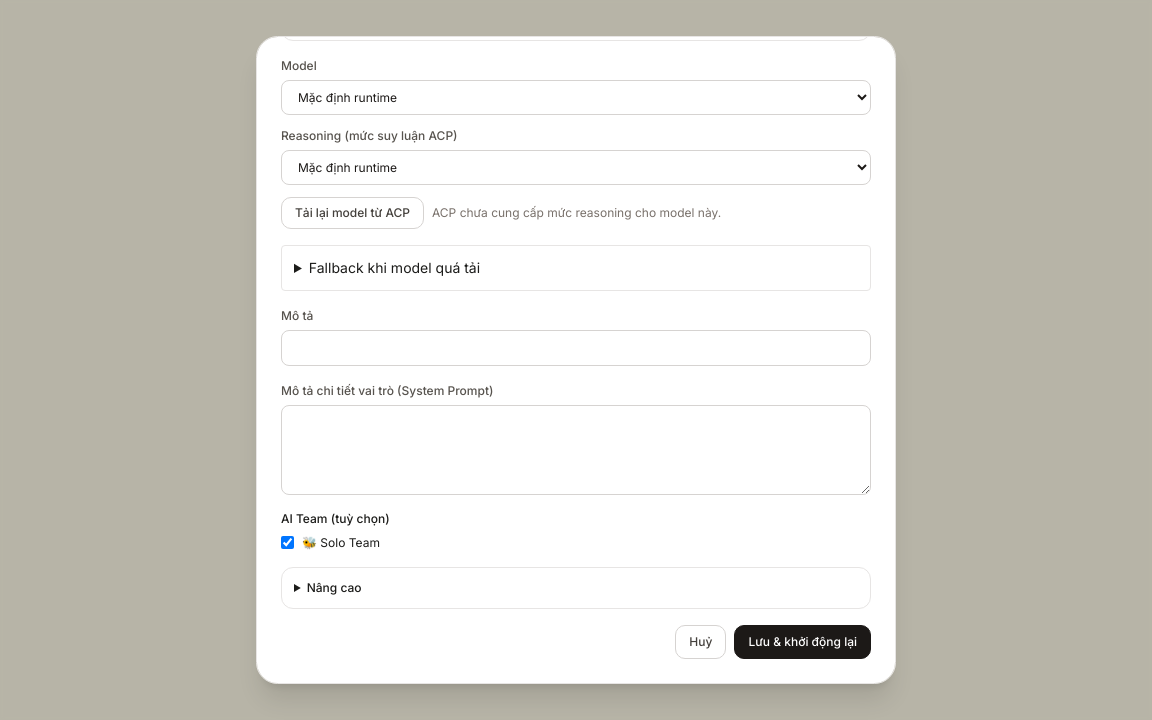
Test: removing sole agent from a team is refused before saving configuration
The image size is (1152, 720).
(page scrolled)
Click the checkbox labelled "🐝 Solo Team" at (288, 542), box [281,536,294,549]
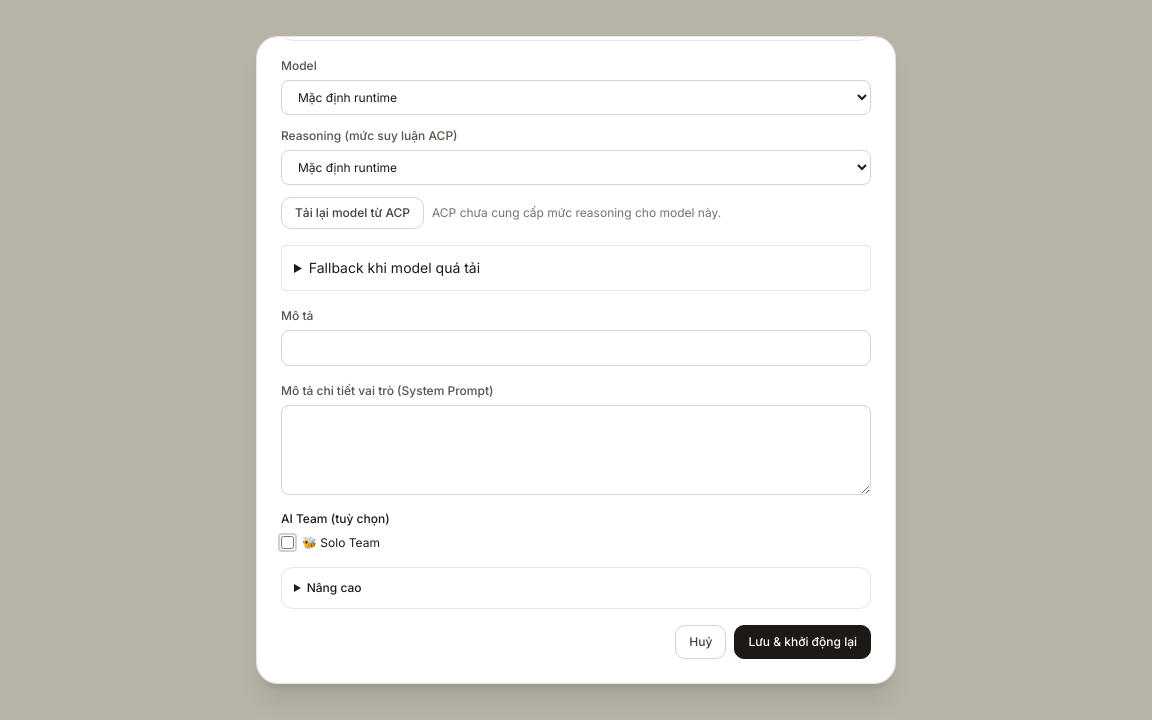
Click the button "Lưu & khởi động lại" at (803, 642), box [734,624,871,658]
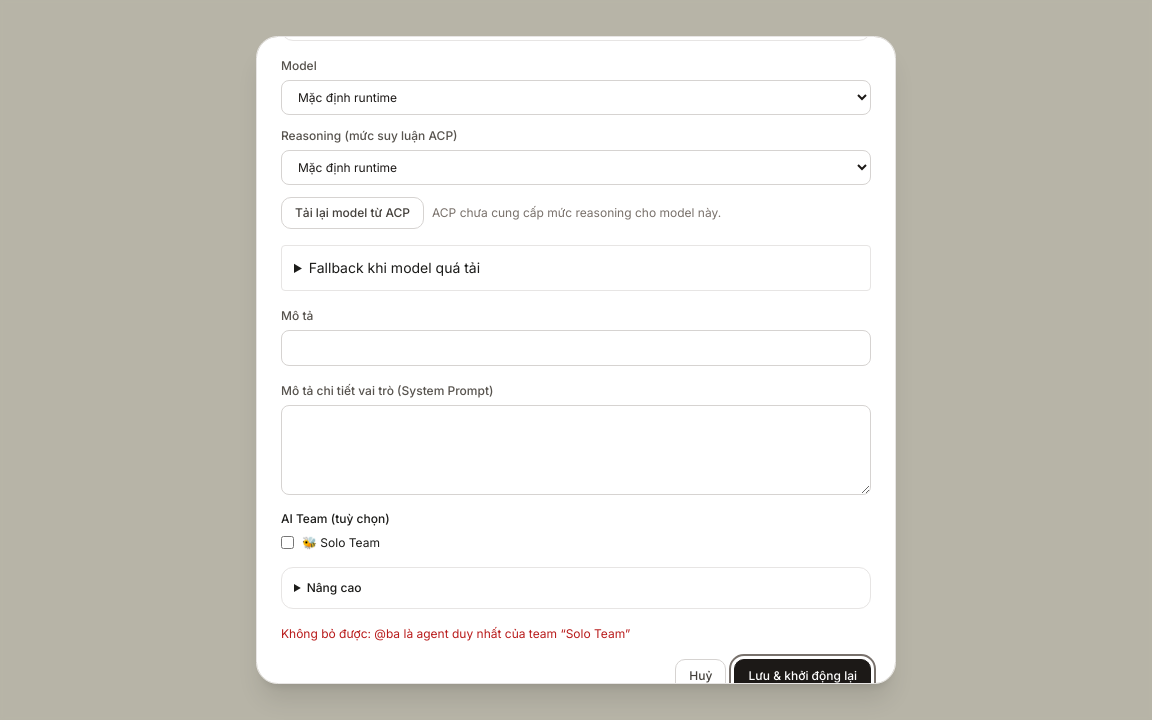
Result: the message shows "là agent duy nhất" at [281,626,630,640]
